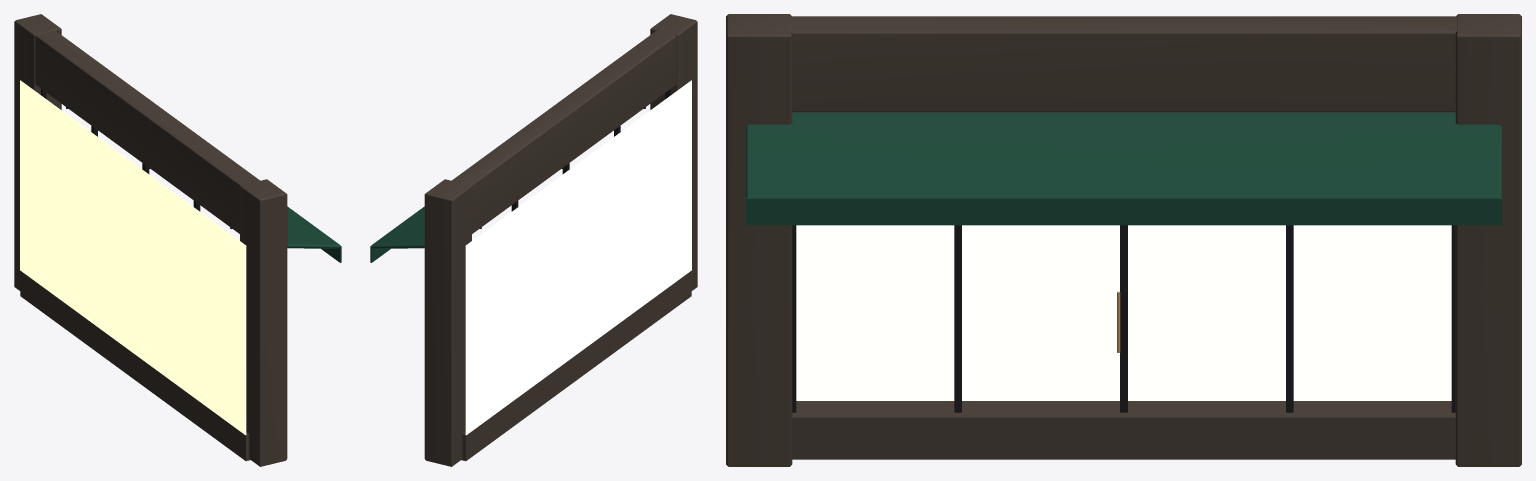
File: shopfront.glb
3 views of the same model, side by side, from view 1: azimuth 30°, elevation 25°; view 2: azimuth 150°, elevation 25°; view 3: azimuth 270°, elevation 25° (orthographic). The views are drawn at different scales.
Parts seen in each view (by area): view 1: Mesh_Interior, Mesh_SignBand, Mesh_PilasterR, Mesh_Plinth, Mesh_PilasterL, Mesh_Awning; view 2: Mesh_Interior, Mesh_SignBand, Mesh_PilasterL, Mesh_Plinth, Mesh_PilasterR, Mesh_Awning; view 3: Mesh_Interior, Mesh_Awning, Mesh_SignBand, Mesh_Plinth, Mesh_PilasterL, Mesh_PilasterR, Mesh_Valance, Mesh_Mullion1, Mesh_Mullion2, Mesh_Mullion3, Mesh_Mullion0, Mesh_Mullion4.
Boxes of the visible parts, bbox=[...] form: Mesh_Interior: bbox=[20, 80, 246, 435]; Mesh_SignBand: bbox=[35, 30, 260, 233]; Mesh_PilasterR: bbox=[240, 179, 287, 466]; Mesh_Plinth: bbox=[20, 271, 250, 460]; Mesh_PilasterL: bbox=[14, 14, 61, 290]; Mesh_Awning: bbox=[287, 206, 340, 248]; Mesh_Interior: bbox=[465, 80, 691, 435]; Mesh_SignBand: bbox=[451, 30, 676, 233]; Mesh_PilasterL: bbox=[424, 179, 471, 466]; Mesh_Plinth: bbox=[461, 271, 691, 460]; Mesh_PilasterR: bbox=[650, 14, 697, 290]; Mesh_Awning: bbox=[371, 206, 424, 248]; Mesh_Interior: bbox=[796, 225, 1451, 400]; Mesh_Awning: bbox=[746, 112, 1501, 198]; Mesh_SignBand: bbox=[791, 16, 1456, 112]; Mesh_Plinth: bbox=[792, 401, 1455, 459]; Mesh_PilasterL: bbox=[1455, 14, 1521, 466]; Mesh_PilasterR: bbox=[726, 14, 792, 466]; Mesh_Valance: bbox=[746, 198, 1501, 225]; Mesh_Mullion1: bbox=[1286, 225, 1293, 412]; Mesh_Mullion2: bbox=[1120, 225, 1127, 412]; Mesh_Mullion3: bbox=[954, 225, 961, 412]; Mesh_Mullion0: bbox=[1451, 225, 1455, 412]; Mesh_Mullion4: bbox=[792, 225, 796, 412].
Bounding box in the file's own units: 1.29 × 3.6 × 6.
